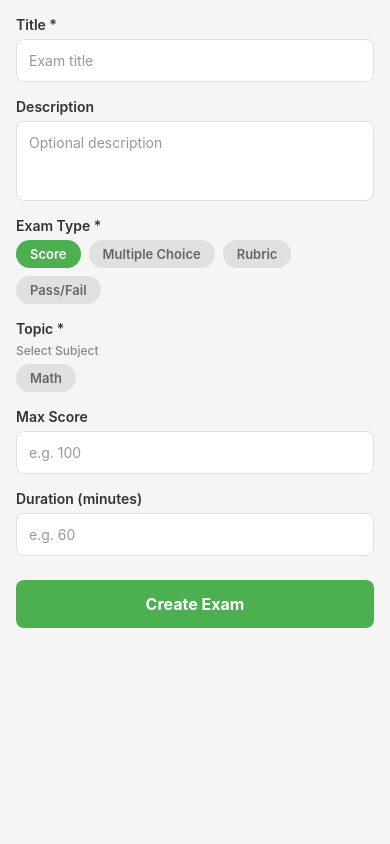
Test: CreateExamScreen › shows topics when a subject is selected
The width and height of the screenshot is (390, 844).
Click the element with test id "subject-sub1".
click(46, 378)  # box [16,364,76,392]
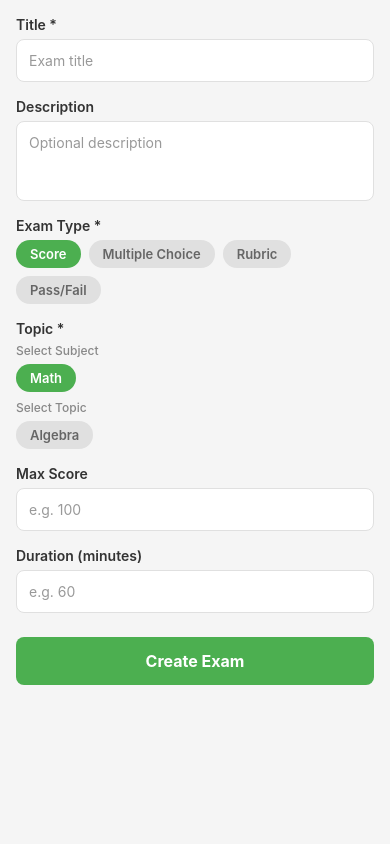
Result: the element with test id "topic-t1" is shown at [16,421,93,449]
